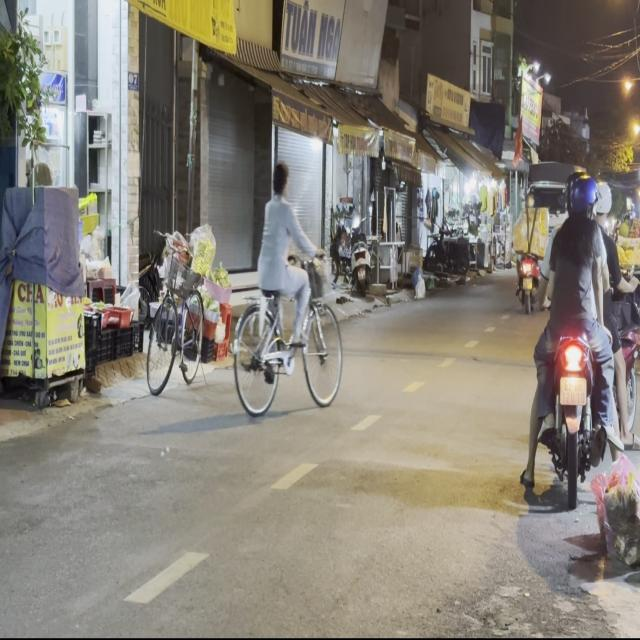helmet: (567, 171, 594, 217), (592, 178, 612, 222)
licenseplate: (521, 163, 635, 502)
nohelmet: (559, 375, 585, 403)
